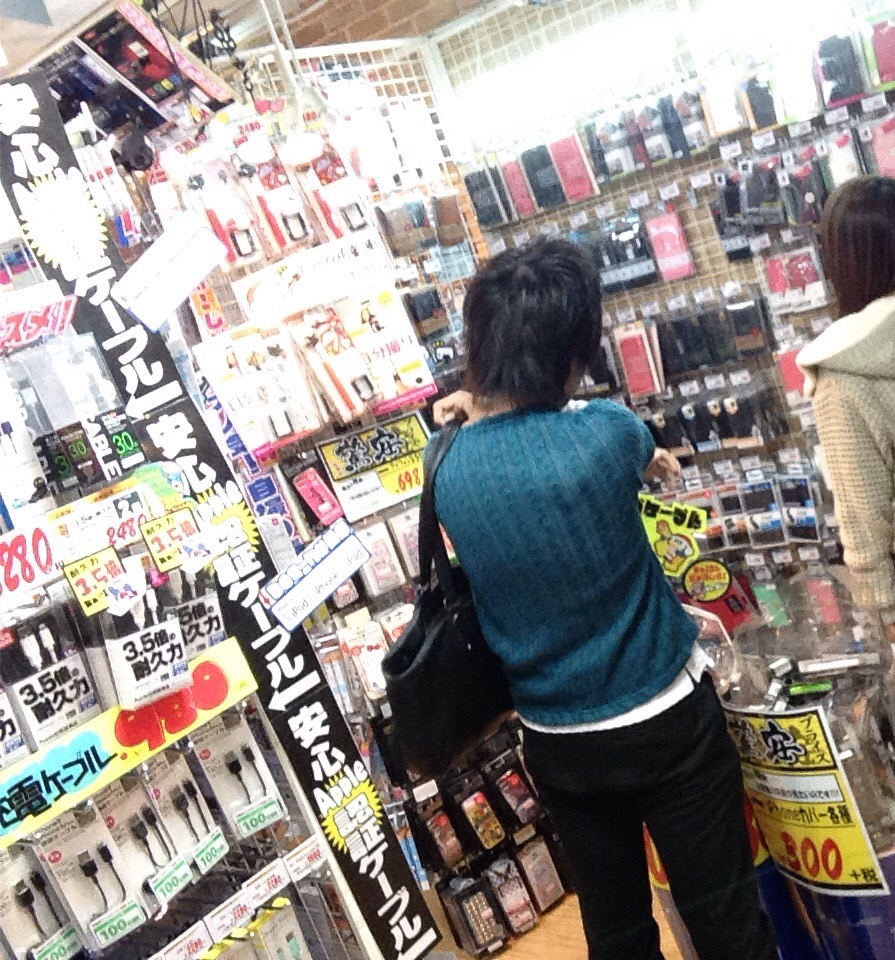female: (806, 172, 895, 650)
male: (406, 232, 777, 960)
